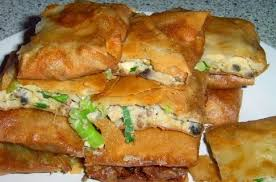Martabak telur: (29, 3, 129, 79), (120, 10, 218, 82), (95, 87, 213, 136), (3, 65, 95, 124), (208, 114, 276, 182), (88, 133, 205, 172), (0, 111, 91, 156), (203, 16, 264, 80)
